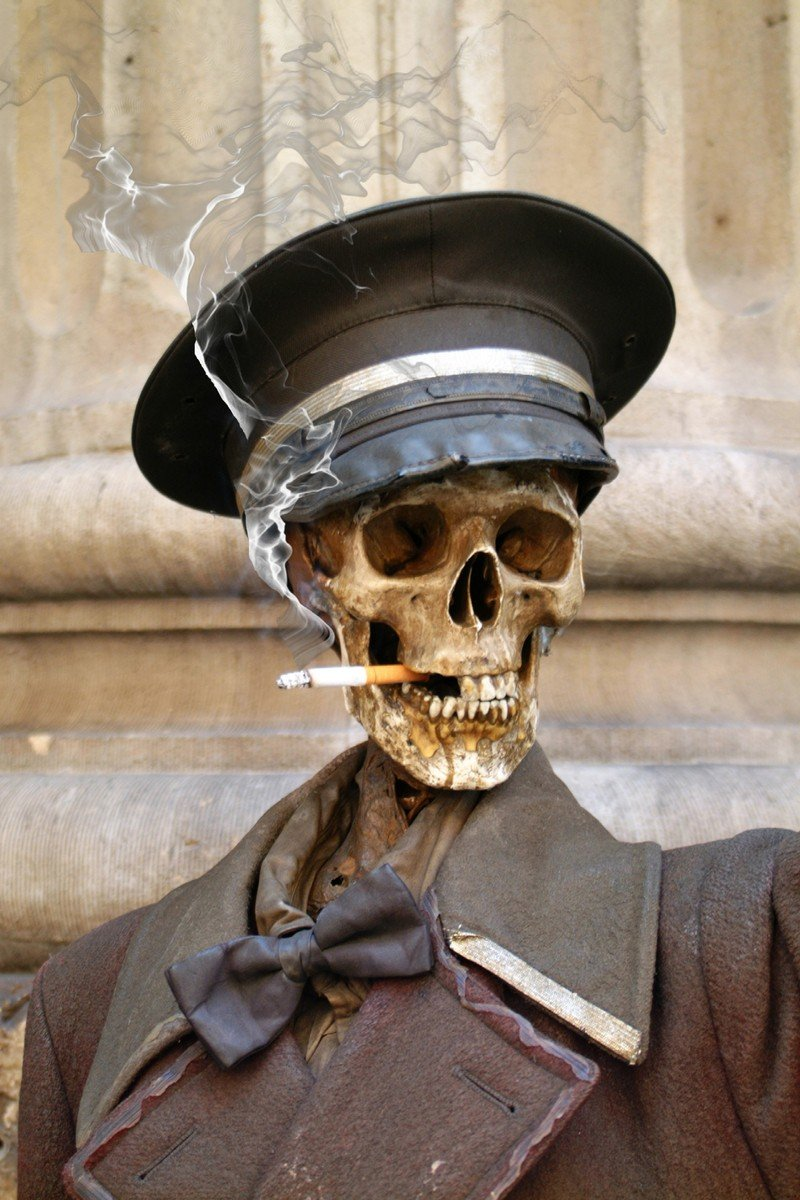cigarette: (275, 660, 422, 693)
